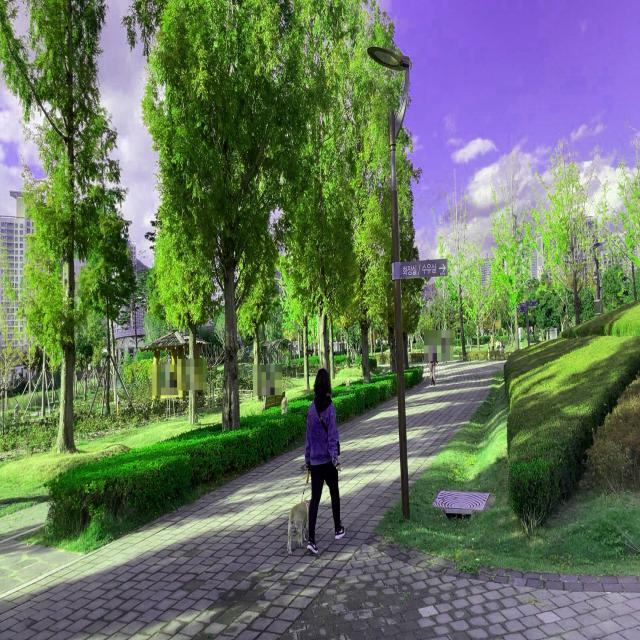Leashed_Dog: (287, 459, 320, 556)
